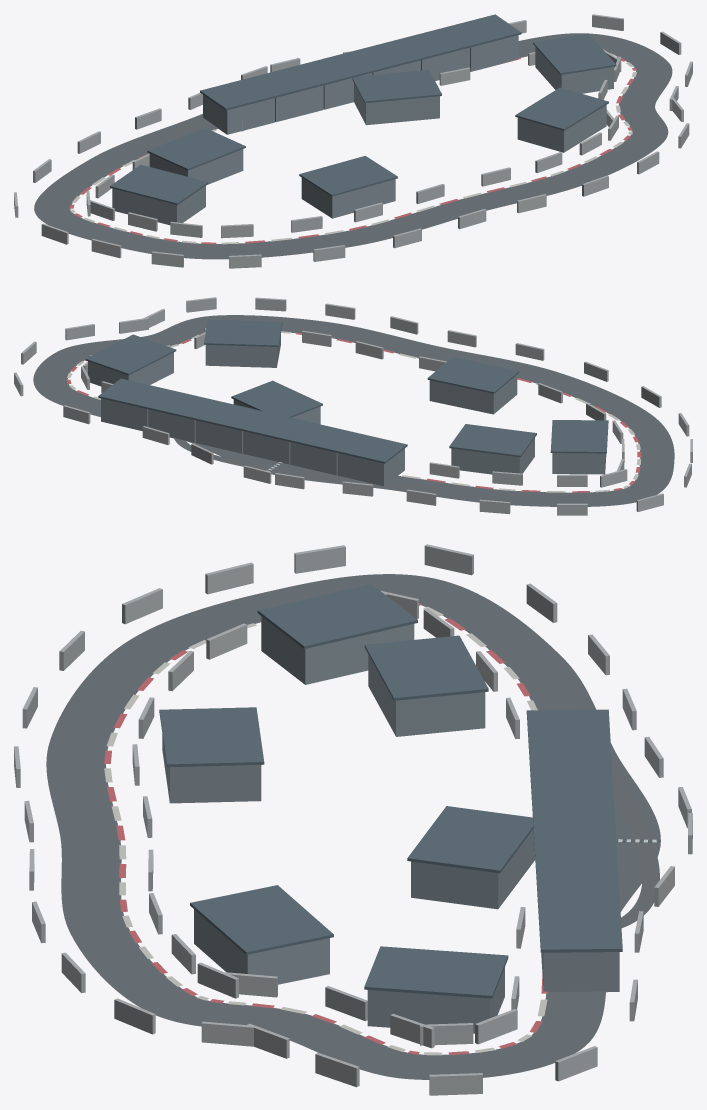
The picture shows the model from 3 angles, top to bottom: view 1: azimuth 30°, elevation 25°; view 2: azimuth 150°, elevation 25°; view 3: azimuth 270°, elevation 25°; orthographic projection. The views are drawn at different scales.
Parts seen in each view (by area): view 1: asphalt, grandstand_roof_3, grandstand_roof_5, grandstand_roof_4, grandstand_roof_2, grandstand_roof_0, grandstand_roof_1, grandstand_3, grandstand_2, grandstand_4, grandstand_0, pit_building_0 (+24 smaller); view 2: asphalt, grandstand_roof_3, grandstand_roof_1, grandstand_roof_5, grandstand_roof_2, grandstand_roof_4, grandstand_3, grandstand_roof_0, grandstand_5, grandstand_2, pit_building_0, grandstand_1 (+37 smaller); view 3: asphalt, grandstand_roof_4, grandstand_roof_1, grandstand_roof_2, grandstand_roof_5, grandstand_roof_0, grandstand_roof_3, grandstand_4, grandstand_0, grandstand_2, grandstand_5, grandstand_1 (+25 smaller).
Boxes of the visible parts, x1,y1,x2,y2 form: asphalt: (34,33,672,259); grandstand_roof_3: (299,155,397,196); grandstand_roof_5: (147,128,245,170); grandstand_roof_4: (110,165,208,204); grandstand_roof_2: (515,87,608,130); grandstand_roof_0: (352,70,441,102); grandstand_roof_1: (533,33,616,74); grandstand_3: (301,178,395,218); grandstand_2: (517,105,606,152); grandstand_4: (112,185,205,225); grandstand_0: (354,83,439,125); pit_building_0: (203,95,274,134); asphalt: (33,315,674,506); grandstand_roof_3: (427,357,519,393); grandstand_roof_1: (85,334,176,375); grandstand_roof_5: (449,424,536,457); grandstand_roof_2: (204,319,282,346); grandstand_roof_4: (550,420,608,453); grandstand_3: (429,375,517,414); grandstand_roof_0: (231,380,322,417); grandstand_5: (451,438,534,474); grandstand_2: (205,333,280,367); pit_building_0: (337,448,404,486); grandstand_1: (88,352,173,386); asphalt: (46,574,660,1079); grandstand_roof_4: (257,584,417,648); grandstand_roof_1: (364,946,508,998); grandstand_roof_2: (190,885,333,954); grandstand_roof_5: (364,635,488,700); grandstand_roof_0: (407,806,533,873); grandstand_roof_3: (159,707,264,767); grandstand_4: (261,616,414,684); grandstand_0: (411,829,535,909); grandstand_2: (194,909,329,984); grandstand_5: (368,654,485,736); grandstand_1: (367,967,504,1033).
Bounding box in the file's own units: 66.06 × 2.64 × 35.6.
